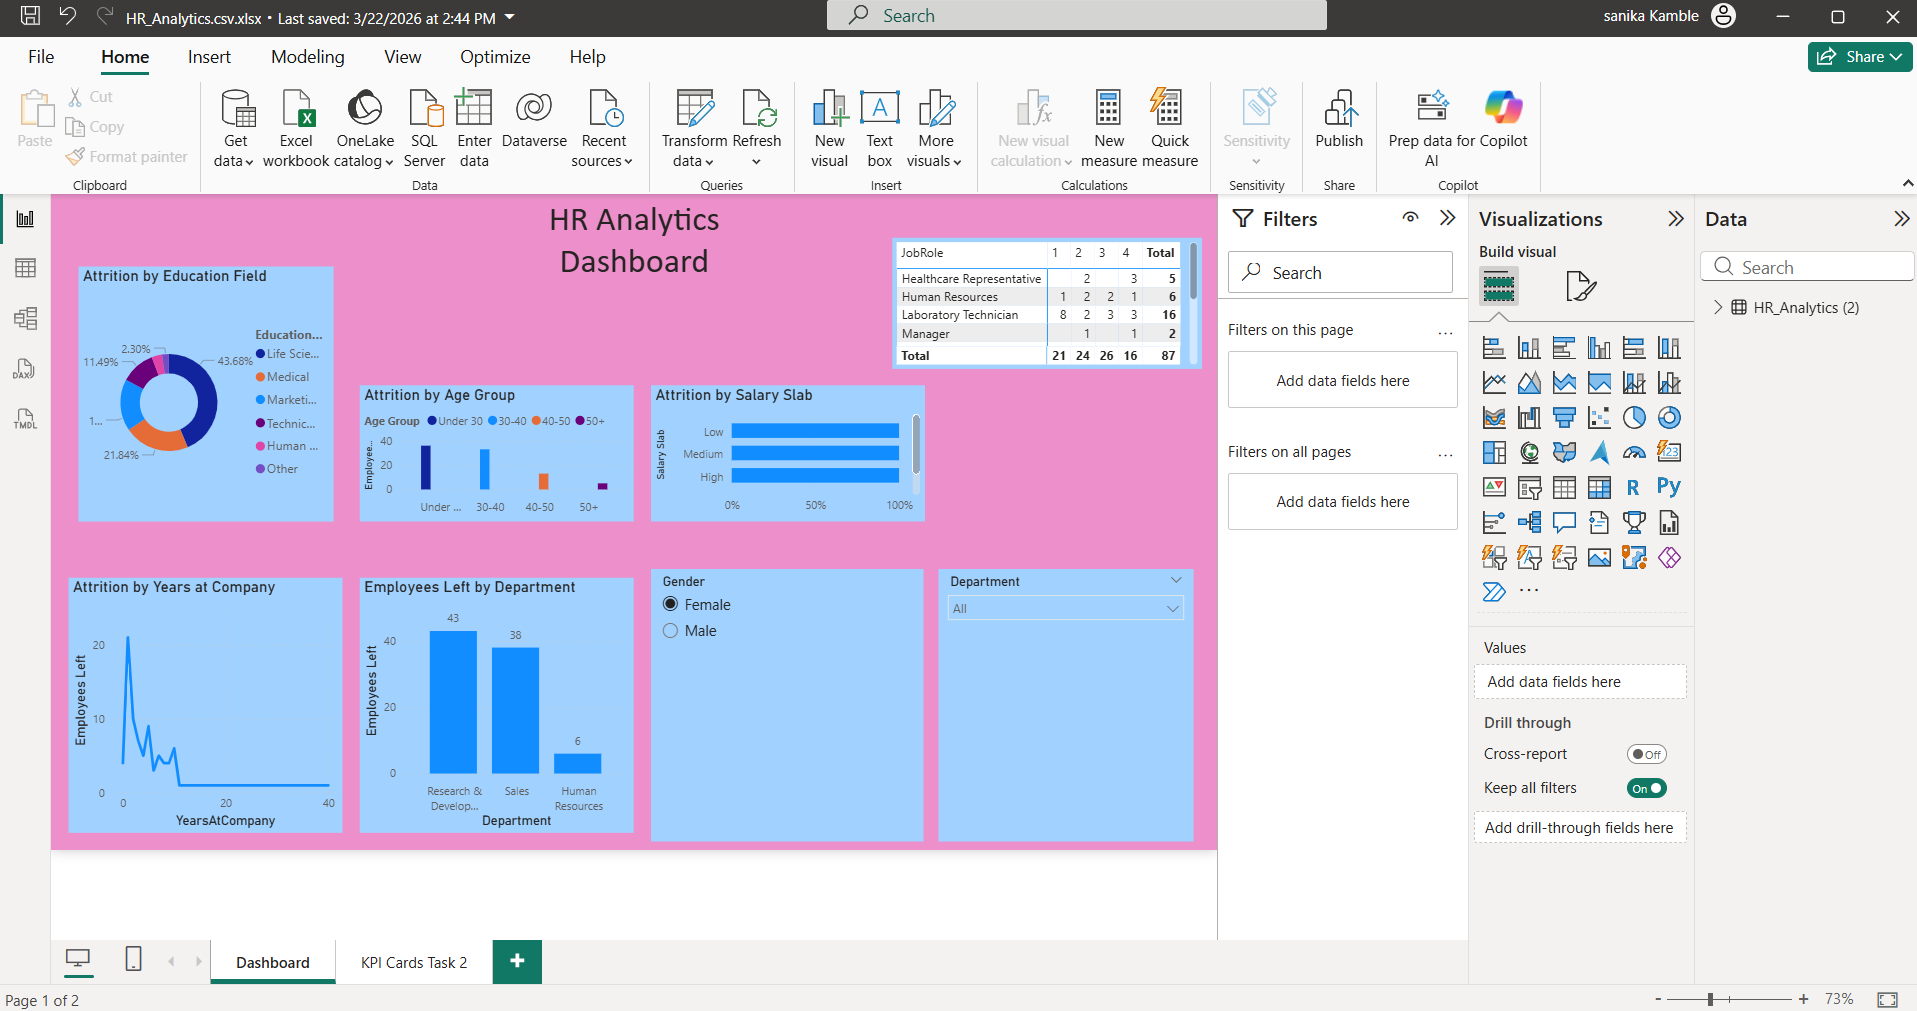

What the dashboard file says about the page in this screenshot:
{"tool":"powerbi","page":{"name":"Dashboard","canvas":[1280,720],"ordinal":0},"visuals":[{"type":"donutChart","title":"Attrition by Education Field","fields":{"Category":["HR_Analytics (2).EducationField"],"Y":["HR_Analytics (2).Employees Left"]},"box":[30.2,79.6,279.9,279.9],"z":0},{"type":"clusteredColumnChart","title":"Attrition by Age Group","fields":{"Series":["HR_Analytics (2).Age Group"],"Category":["HR_Analytics (2).Age Group"],"Y":["HR_Analytics (2).Employees Left"]},"box":[340.3,156.4,300.5,149.6],"z":1000},{"type":"hundredPercentStackedBarChart","title":"Attrition by Salary Slab","fields":{"Category":["HR_Analytics (2).Salary Slab"],"Y":["HR_Analytics (2).Employees Left"]},"box":[658.7,166,300.5,149.6],"z":2000},{"type":"pivotTable","title":"Job Role vs Job Satisfaction","fields":{"Rows":["HR_Analytics (2).JobRole"],"Columns":["HR_Analytics (2).JobSatisfaction"],"Values":["HR_Analytics (2).Employees Left"]},"box":[985.3,79.6,279.9,123.5],"z":3000},{"type":"lineChart","title":"Attrition by Years at Company","fields":{"Category":["HR_Analytics (2).YearsAtCompany"],"Y":["HR_Analytics (2).Employees Left"]},"box":[19.2,421.3,300.5,279.9],"z":4000},{"type":"columnChart","fields":{"Category":["HR_Analytics (2).Department"],"Y":["HR_Analytics (2).Employees Left"]},"box":[338.9,421.3,300.5,279.9],"z":5000},{"type":"slicer","fields":{"Values":["HR_Analytics (2).Gender"]},"box":[658.7,411.7,299.1,299.1],"z":6000},{"type":"slicer","fields":{"Values":["HR_Analytics (2).Department"]},"box":[974.3,411.7,279.9,299.1],"z":7000},{"type":"textbox","box":[489.5,0,301,150],"z":8000}]}

Visuals, with their boxes on the page's 1280x720 design canvas (x1, y1, x2, y2). These are canvas units, not pixel positions in the 1917x1011 screenshot, which may show the page scaled, cropped or inside an application window:
"Attrition by Education Field" donutChart: (30,80,310,360)
"Attrition by Age Group" clusteredColumnChart: (340,156,641,306)
"Attrition by Salary Slab" hundredPercentStackedBarChart: (659,166,959,316)
"Job Role vs Job Satisfaction" pivotTable: (985,80,1265,203)
"Attrition by Years at Company" lineChart: (19,421,320,701)
columnChart - HR_Analytics (2).Department x HR_Analytics (2).Employees Left: (339,421,639,701)
slicer - HR_Analytics (2).Gender: (659,412,958,711)
slicer - HR_Analytics (2).Department: (974,412,1254,711)
textbox: (490,0,790,150)
